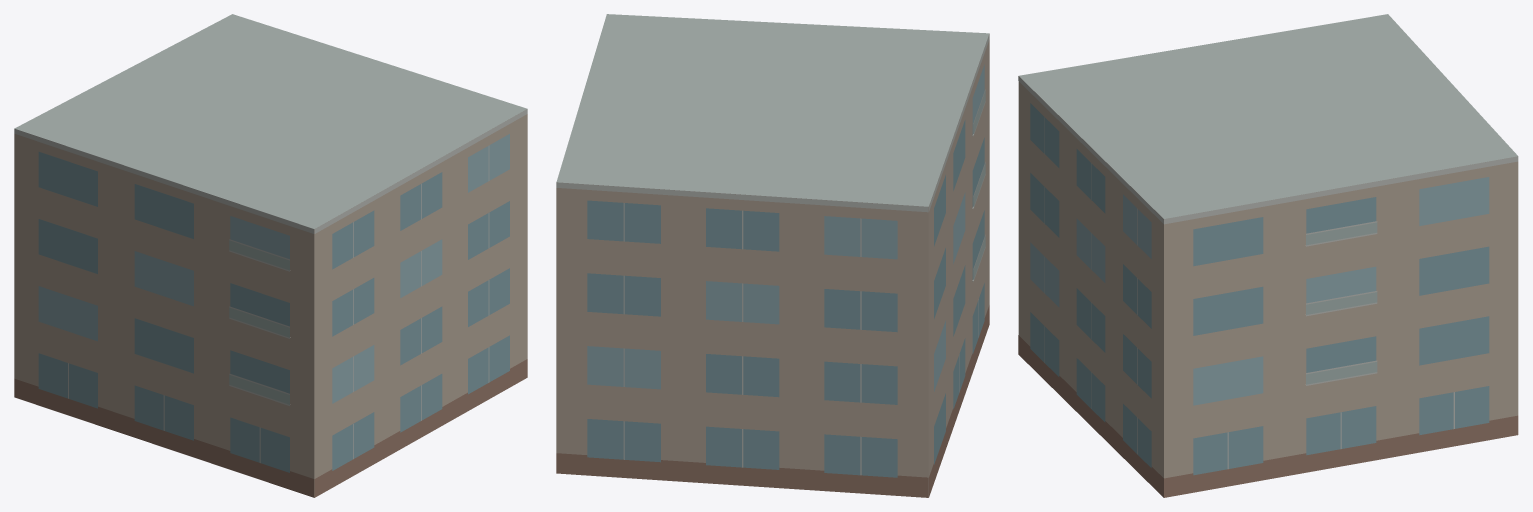
File: survey-upis-32930064.glb
The picture shows the model from 3 angles, left to right: view 1: azimuth 30°, elevation 25°; view 2: azimuth 150°, elevation 25°; view 3: azimuth 270°, elevation 25°; orthographic projection. The views are drawn at different scales.
Parts seen in each view (by area): view 1: survey-upis-32930064.tmp; view 2: survey-upis-32930064.tmp; view 3: survey-upis-32930064.tmp.
Boxes of the visible parts, box(x1,y1,x2,y2) form: survey-upis-32930064.tmp: box(14, 14, 527, 497); survey-upis-32930064.tmp: box(556, 14, 989, 497); survey-upis-32930064.tmp: box(1018, 14, 1518, 497).
Size of the model in its own units: 20.45 by 12.95 by 21.05.
